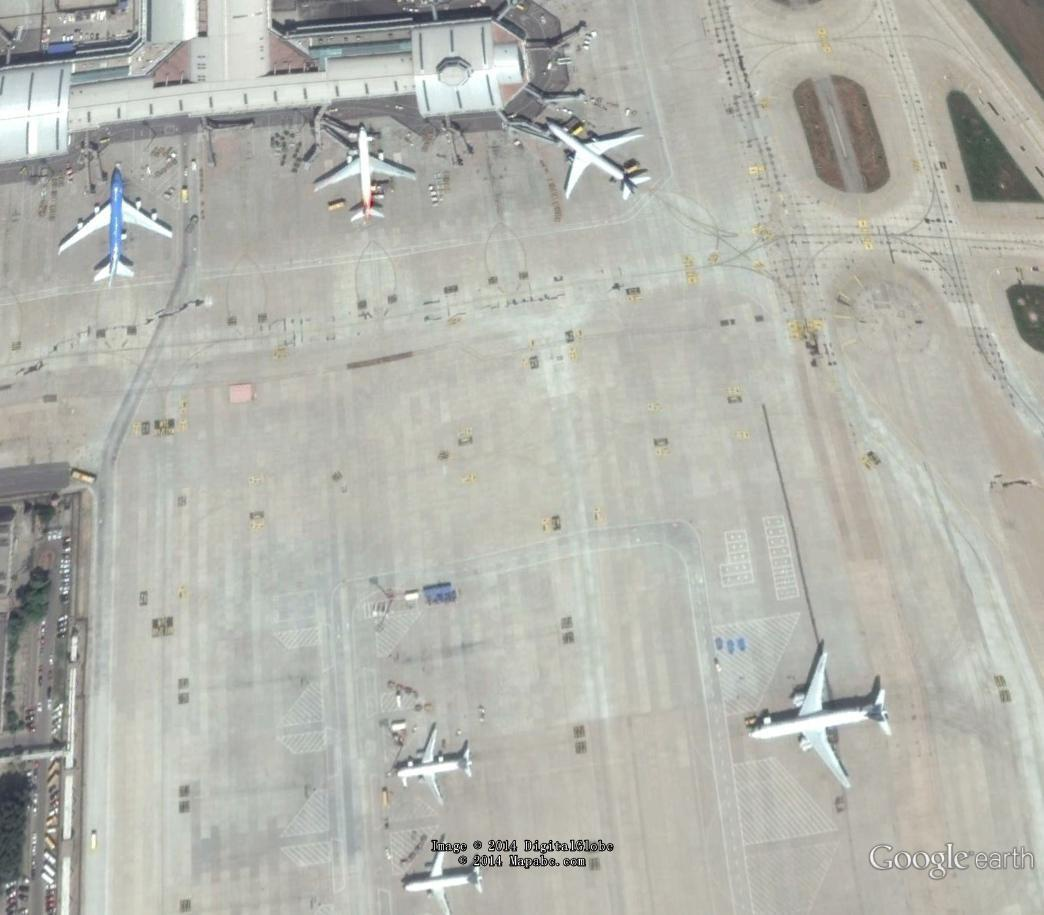aircraft: (745, 645, 897, 793), (54, 166, 178, 286), (310, 123, 423, 228), (541, 111, 666, 204), (390, 721, 484, 805), (399, 832, 490, 915)
